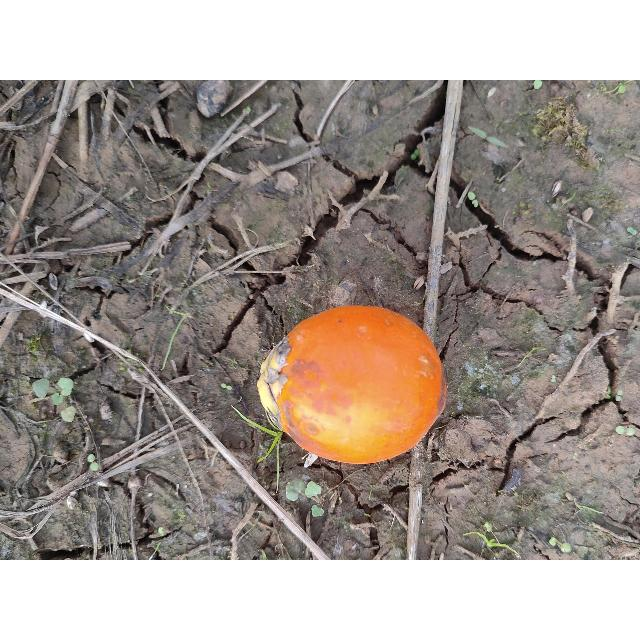good: (259, 306, 446, 467)
